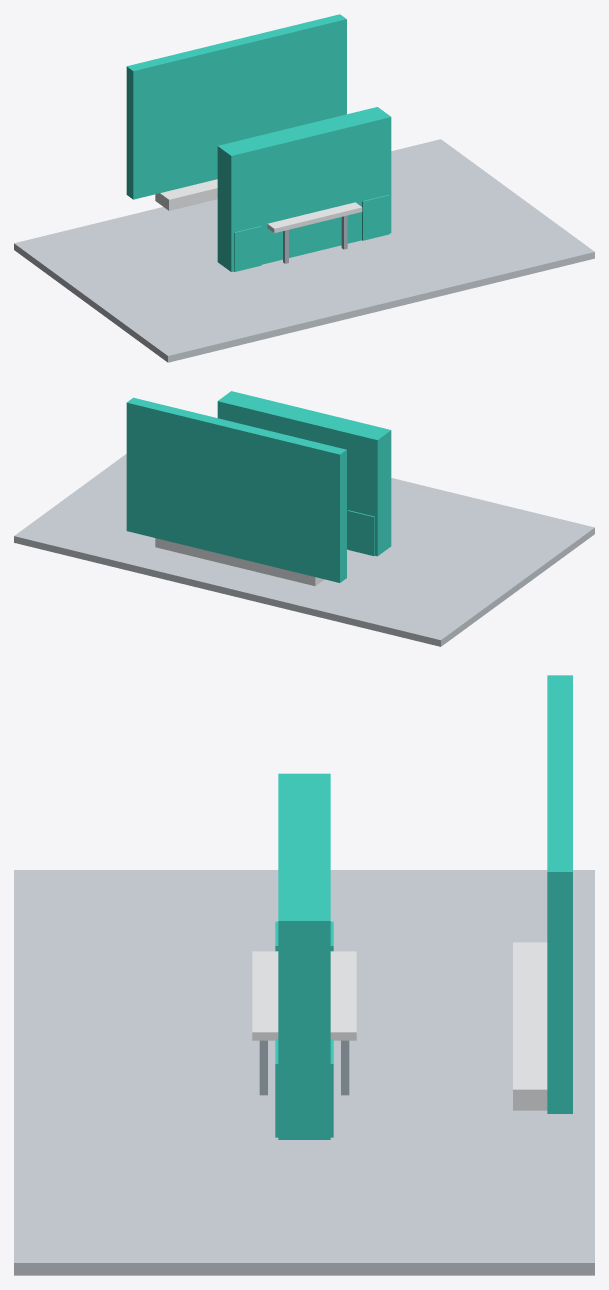
3 views of the same model, one above another, from view 1: azimuth 30°, elevation 25°; view 2: azimuth 150°, elevation 25°; view 3: azimuth 270°, elevation 25° (orthographic). The views are drawn at different scales.
Parts seen in each view (by area): view 1: Exhibition Booth Concept; view 2: Exhibition Booth Concept; view 3: Exhibition Booth Concept.
Part boxes in pixels (bbox=[...]): Exhibition Booth Concept: bbox=[14, 14, 594, 362]; Exhibition Booth Concept: bbox=[14, 391, 594, 646]; Exhibition Booth Concept: bbox=[14, 675, 594, 1275].
Bounding box in the file's own units: 8 × 2.9 × 5.
